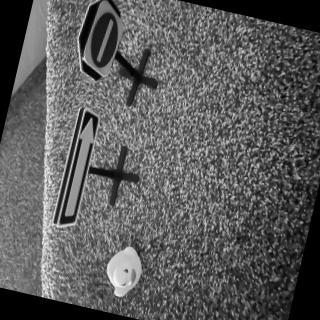duck_regular: (100, 242, 151, 303)
sign_noentry: (77, 1, 132, 82)
sign_oneway_right: (54, 106, 105, 235)
